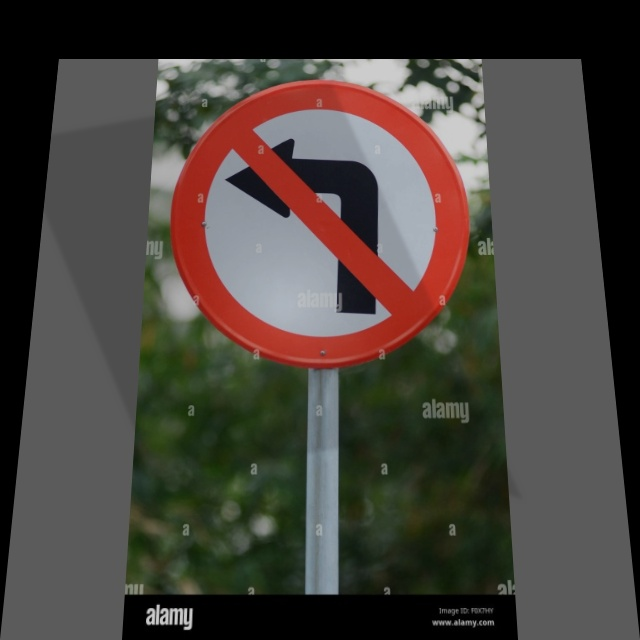Left_Turn_Prohibited: (161, 81, 478, 365)
